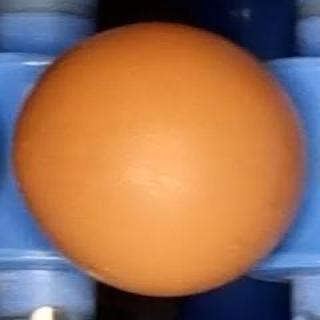Telur: (9, 19, 312, 301)
